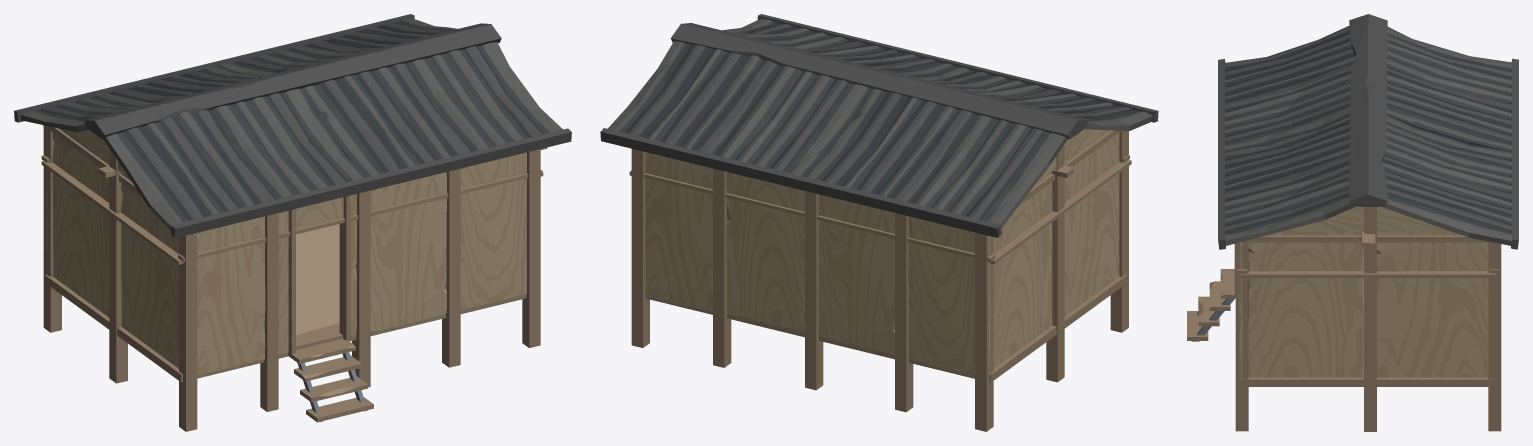
File: SM_Bld_Plywood_Shed_01.glb
3 views of the same model, side by side, from view 1: azimuth 30°, elevation 25°; view 2: azimuth 150°, elevation 25°; view 3: azimuth 270°, elevation 25° (orthographic). The views are drawn at different scales.
Parts seen in each view (by area): view 1: SM_Bld_Plywood_Shed_01; view 2: SM_Bld_Plywood_Shed_01; view 3: SM_Bld_Plywood_Shed_01.
Part boxes in pixels (x1,y1,x2,y2): SM_Bld_Plywood_Shed_01: (14,14,571,431); SM_Bld_Plywood_Shed_01: (600,14,1158,431); SM_Bld_Plywood_Shed_01: (1187,14,1518,431).
Bounding box in the file's own units: 8.07 × 5.13 × 6.25.
1 material, 1 textured.
